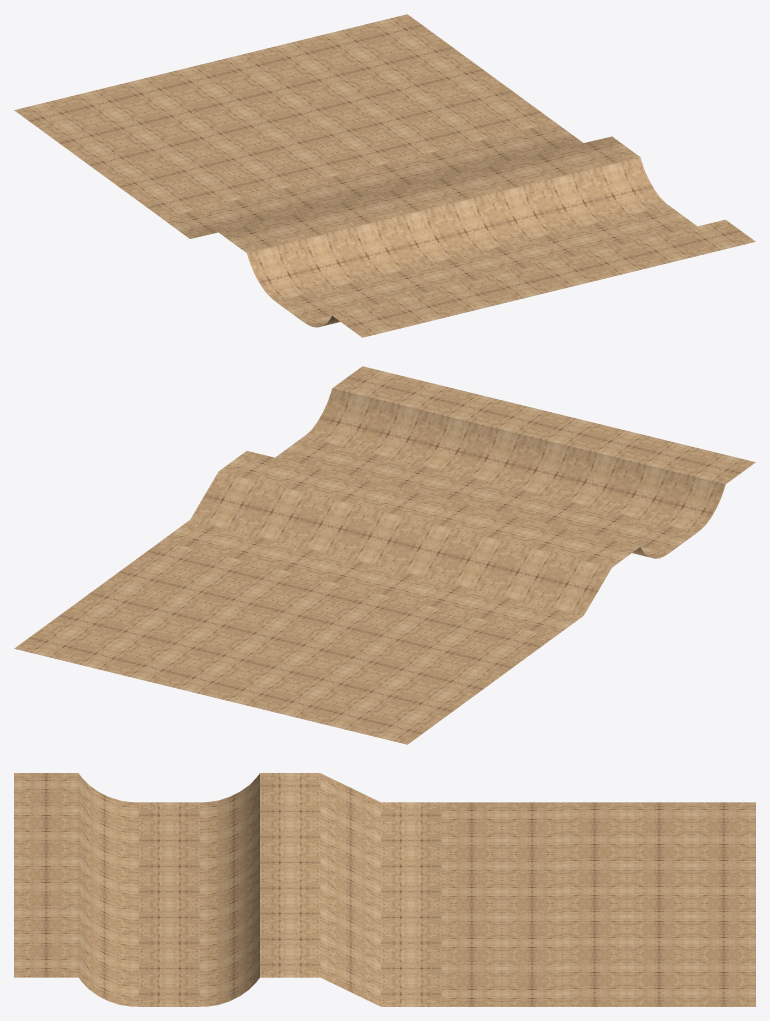
Rendered from mini.fbx.
3 views of the same model, one above another, from view 1: azimuth 30°, elevation 25°; view 2: azimuth 150°, elevation 25°; view 3: azimuth 270°, elevation 25° (orthographic). The views are drawn at different scales.
Visible parts, largest first — view 1: ground; view 2: ground; view 3: ground.
Boxes of the visible parts, x1,y1,x2,y2 form: ground: (14,14,755,337); ground: (14,366,755,744); ground: (14,773,755,1006).
Size of the model in its own units: 3000 by 200 by 4600.
